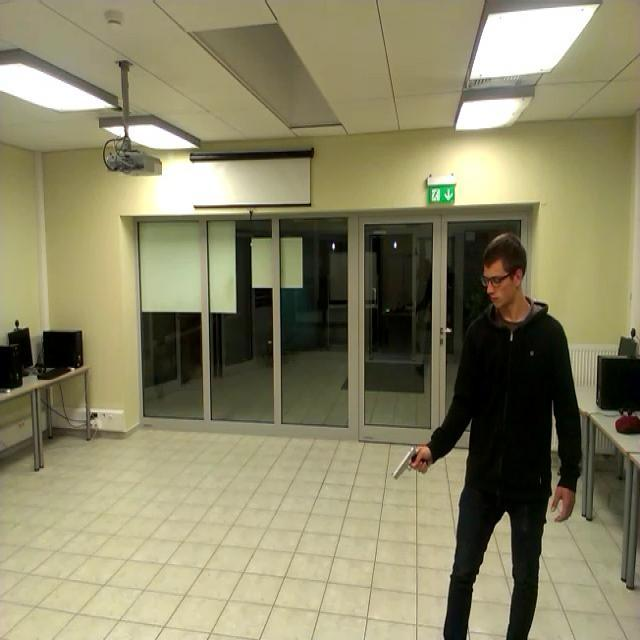gun-knife-thesis - v11 Yolov5 augmented: (386, 442, 426, 478)
